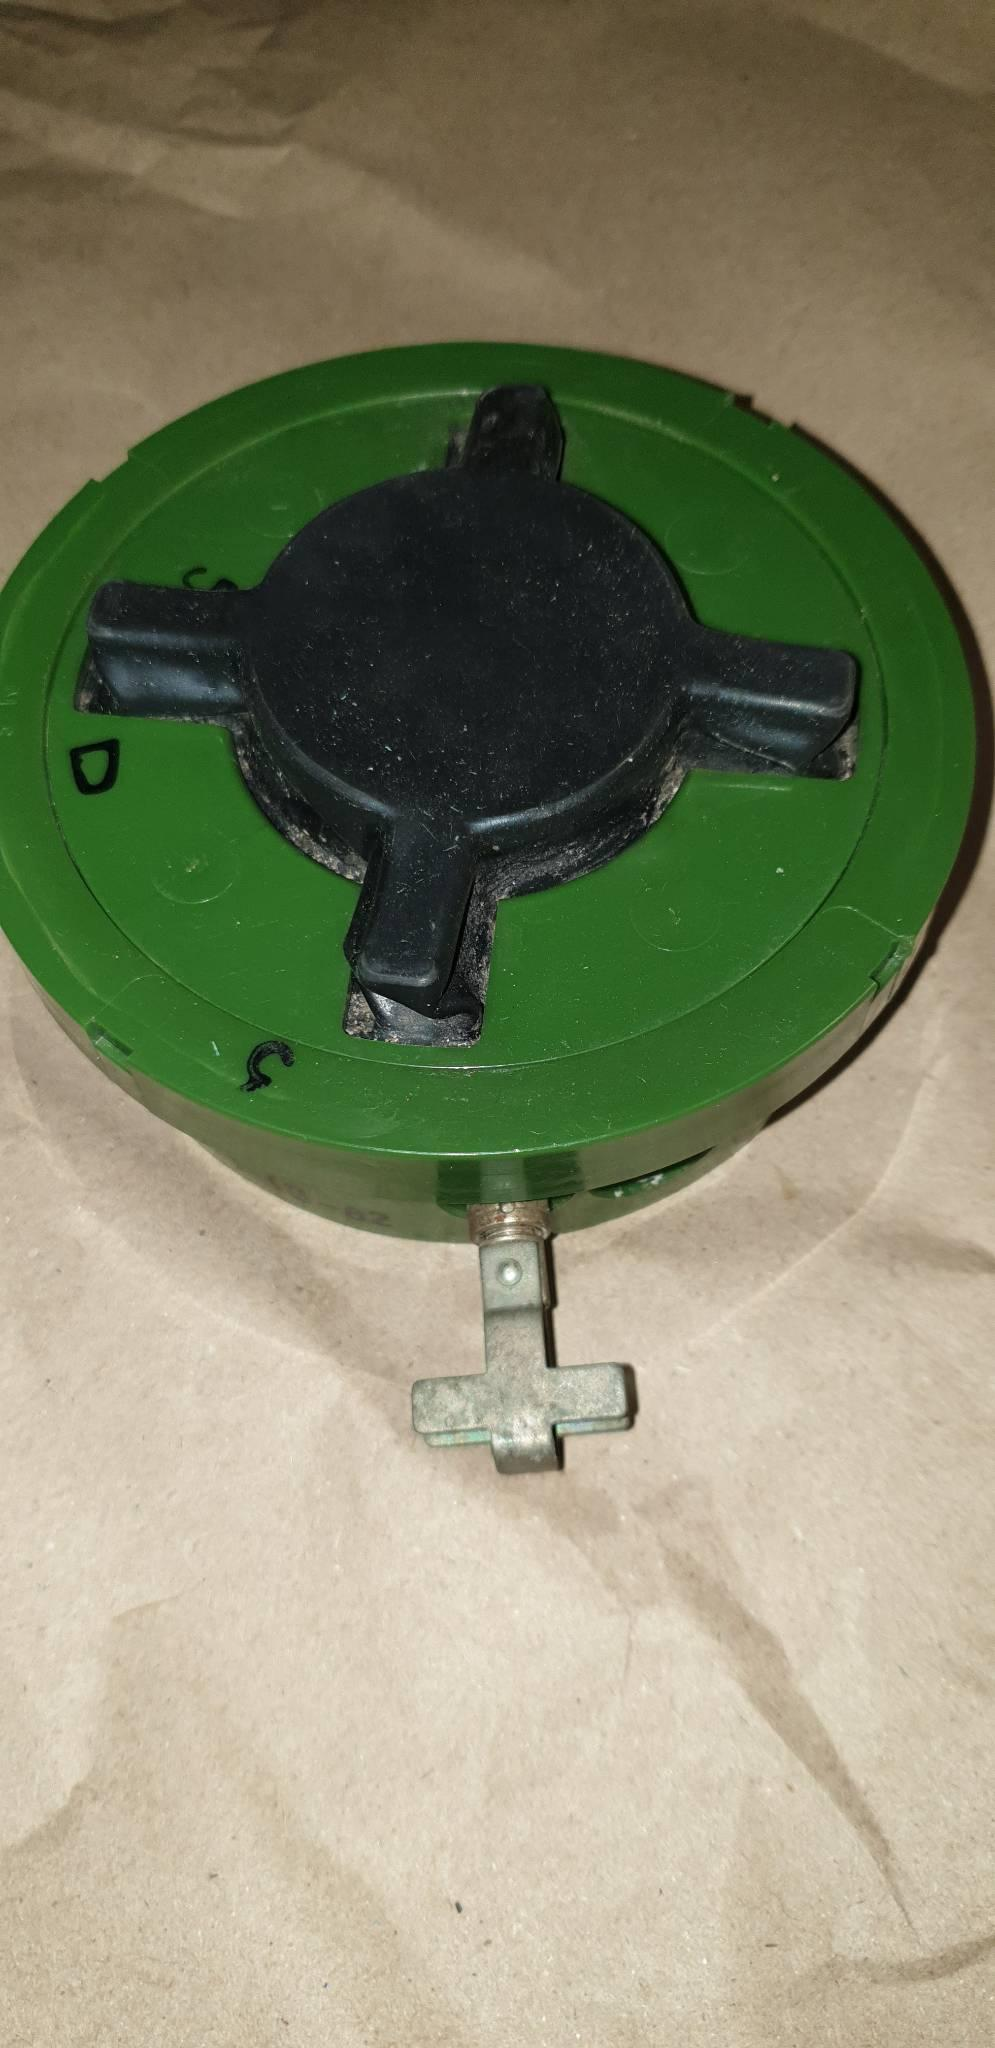PMN 2: (0, 336, 982, 1464)
